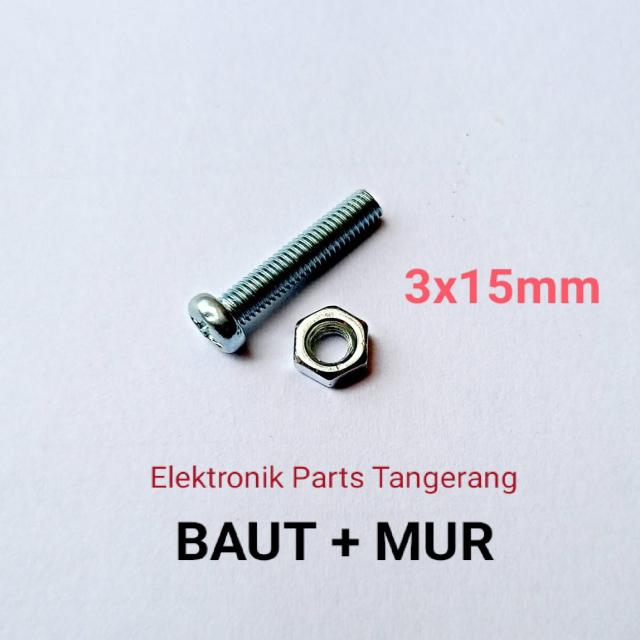Logam: (186, 141, 404, 425)
